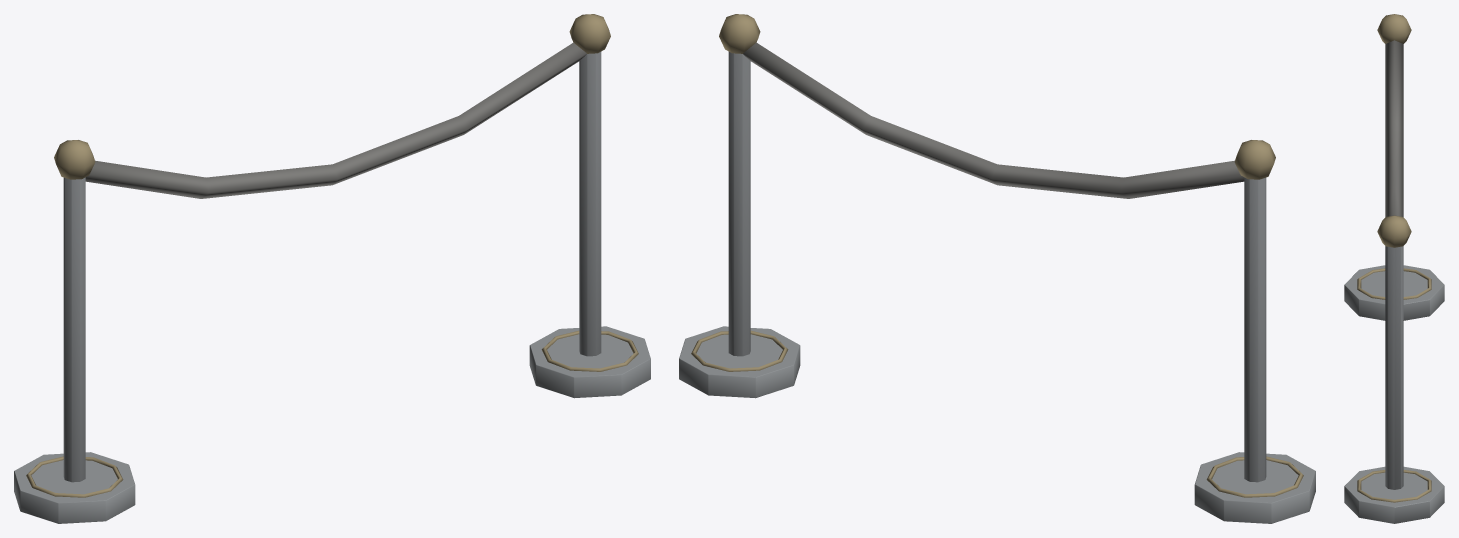
File: rope_stand_low.glb
3 renders of one model, left to right at view 1: azimuth 30°, elevation 25°; view 2: azimuth 150°, elevation 25°; view 3: azimuth 270°, elevation 25°, orthographic. The views are drawn at different scales.
Bounding box in the file's own units: 2.18 × 1.2 × 0.3789.
